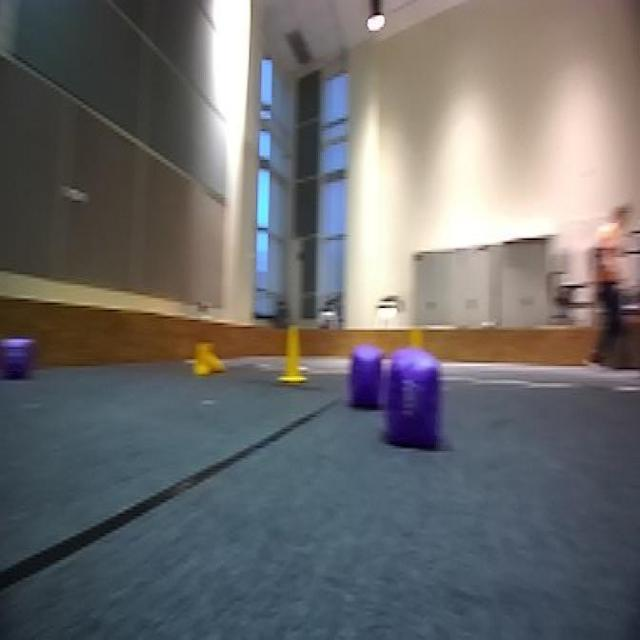frc_cone: (278, 322, 310, 384), (188, 337, 226, 380)
frc_cube: (382, 358, 443, 444), (0, 336, 30, 382), (350, 359, 380, 402)
